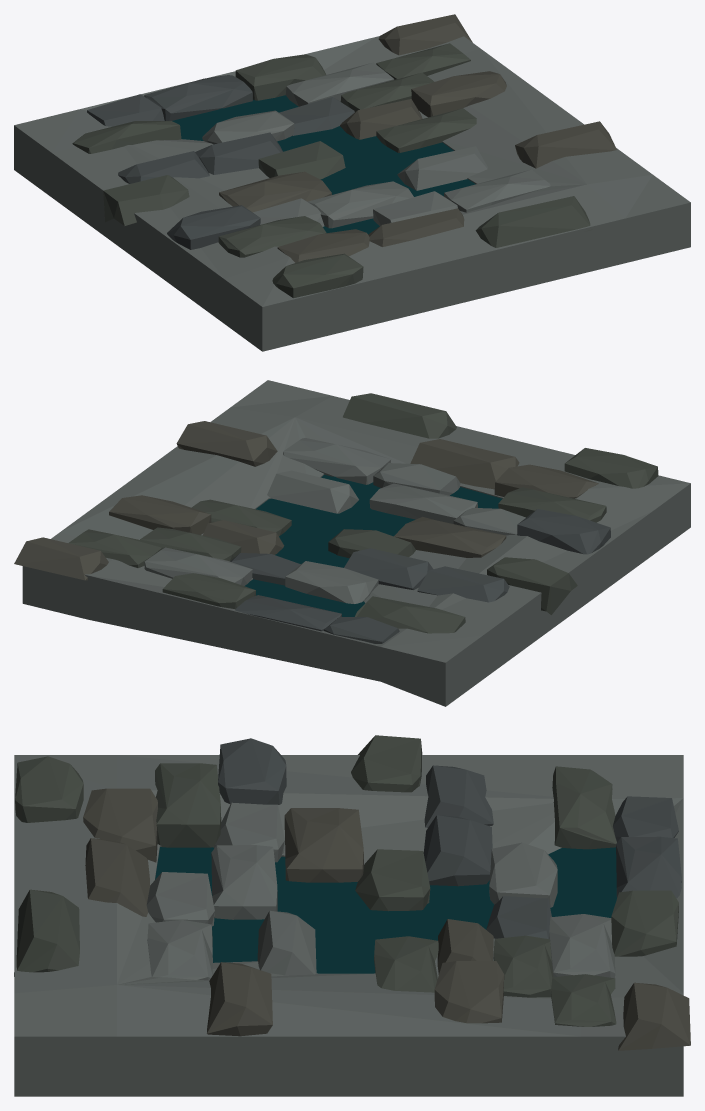
Rendered from MCastle_Cobbles_04.FBX.
3 views of the same model, one above another, from view 1: azimuth 30°, elevation 25°; view 2: azimuth 150°, elevation 25°; view 3: azimuth 270°, elevation 25° (orthographic). The views are drawn at different scales.
Visible parts, largest first — view 1: MCastle_Cobbles_04_Base_LOD0; view 2: MCastle_Cobbles_04_Base_LOD0; view 3: MCastle_Cobbles_04_Base_LOD0.
Boxes of the visible parts, bbox=[...] form: MCastle_Cobbles_04_Base_LOD0: bbox=[14, 14, 690, 351]; MCastle_Cobbles_04_Base_LOD0: bbox=[14, 380, 690, 706]; MCastle_Cobbles_04_Base_LOD0: bbox=[14, 735, 690, 1096].
Size of what is drawn, in the model's own units: 4.19 by 0.5686 by 4.03.
